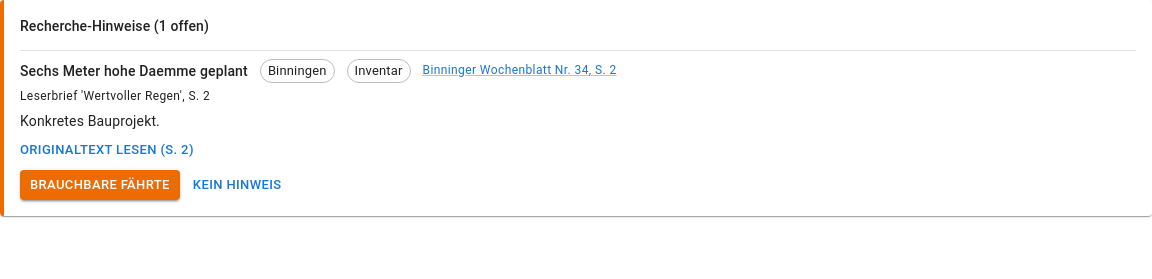
Test: Chefredaktion › verlinkt eine Faehrte auf ihre Seite und traegt den Originaltext
The image size is (1152, 279).
Click the button "Originaltext lesen (S. 2)": (107, 150) [20,135,194,166]
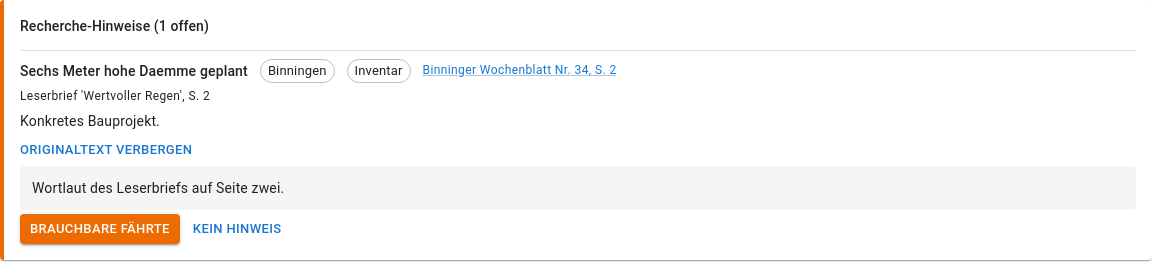
Now the text "Wortlaut des Leserbriefs auf Seite zwei." is shown, box [32,180,284,196]
